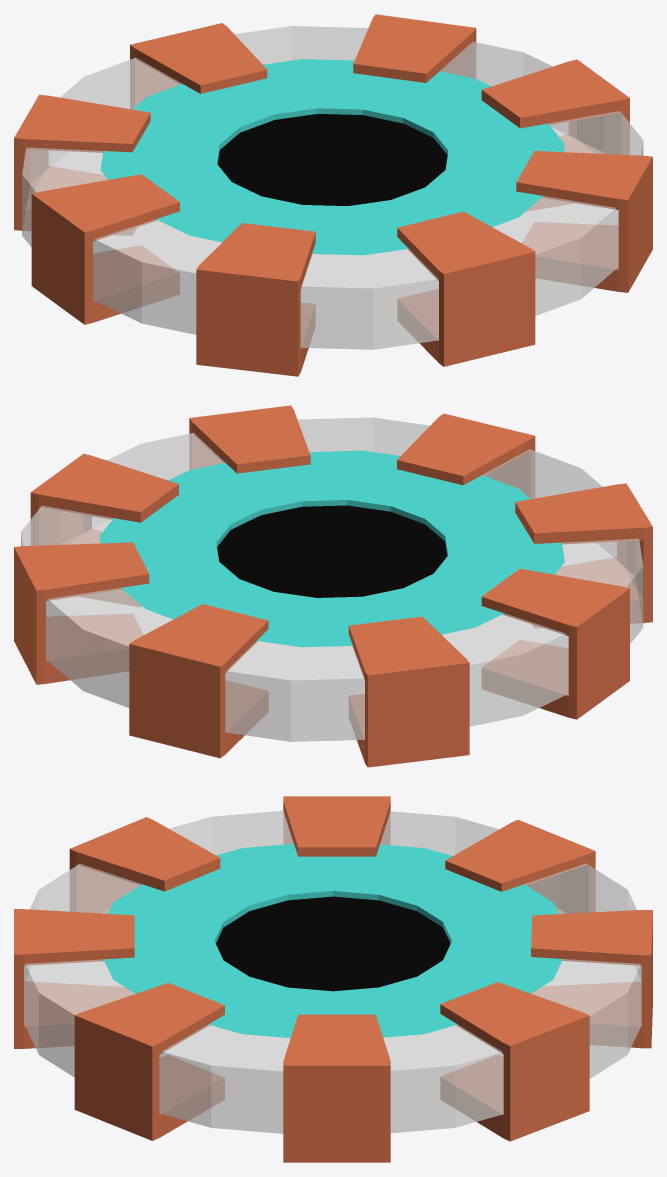
Rendered from basea.glb.
3 renders of one model, top to bottom at view 1: azimuth 30°, elevation 25°; view 2: azimuth 150°, elevation 25°; view 3: azimuth 270°, elevation 25°, orthographic.
Visible parts, largest first — view 1: Cylinder, Cube, Cube.002, Cube.008, Cube.004, Cube.005, Cube.003, Cube.001, Cube.007; view 2: Cylinder, Cube.002, Cube.001, Cube.005, Cube.007, Cube.008, Cube.003, Cube, Cube.004; view 3: Cylinder, Cube.007, Cube.004, Cube.003, Cube.001, Cube, Cube.008, Cube.005, Cube.002.
Boxes of the visible parts, x1,y1,x2,y2 form: Cylinder: (22,26,643,349); Cube: (397,211,535,366); Cube.002: (31,174,179,324); Cube.008: (196,223,315,376); Cube.004: (516,151,652,292); Cube.005: (14,94,150,235); Cube.003: (481,59,629,211); Cube.001: (130,23,267,108); Cube.007: (353,14,476,82); Cylinder: (21,417,643,741); Cube.002: (481,568,629,719); Cube.001: (129,604,268,758); Cube.005: (348,616,469,767); Cube.007: (14,542,149,684); Cube.008: (515,483,652,628); Cube.003: (30,453,178,606); Cube: (397,413,535,498); Cube.004: (189,405,310,473); Cylinder: (24,810,641,1133); Cube.007: (440,982,589,1141); Cube.004: (74,983,224,1140); Cube.003: (283,1014,390,1162); Cube.001: (531,910,652,1048); Cube: (14,909,134,1048); Cube.008: (69,817,220,913); Cube.005: (445,819,595,913); Cube.002: (283,796,390,856).
Bounding box in the file's own units: 40.2 × 6.7 × 40.11.
